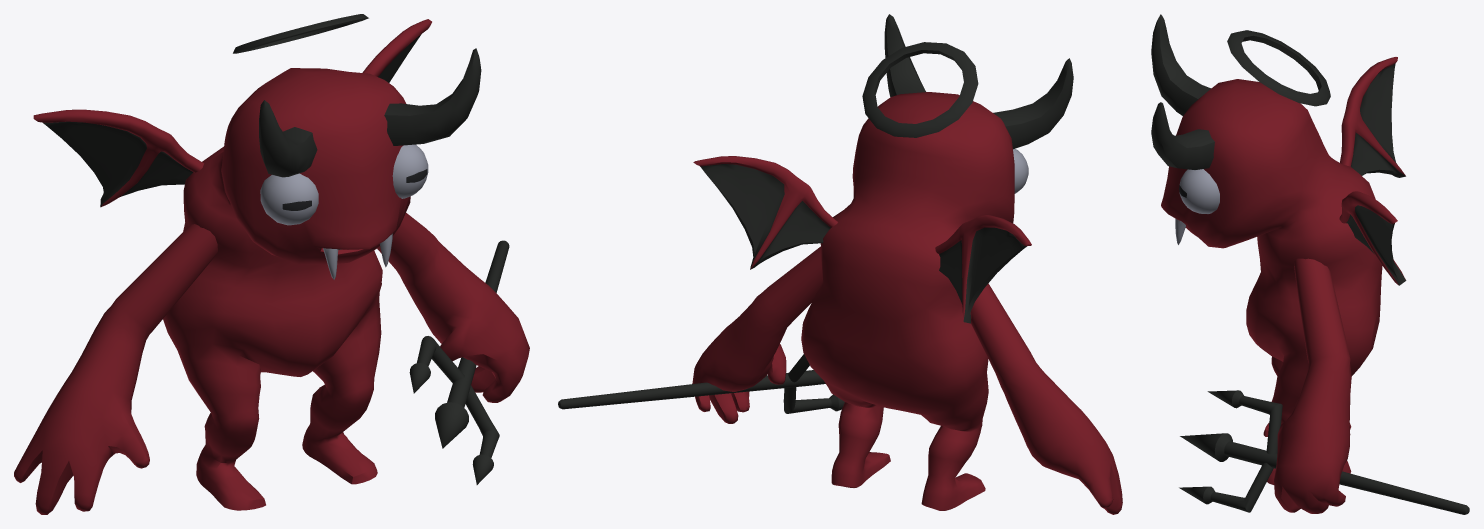
Rendered from Demon.obj.
The picture shows the model from 3 angles, left to right: view 1: azimuth 30°, elevation 25°; view 2: azimuth 150°, elevation 25°; view 3: azimuth 270°, elevation 25°; orthographic projection. The views are drawn at different scales.
Parts seen in each view (by area): view 1: Demon_Cube.098, Trident_Cylinder.005; view 2: Demon_Cube.098, Trident_Cylinder.005; view 3: Demon_Cube.098, Trident_Cylinder.005.
Boxes of the visible parts, x1,y1,x2,y2 form: Demon_Cube.098: [14, 14, 529, 514]; Trident_Cylinder.005: [409, 240, 509, 484]; Demon_Cube.098: [692, 14, 1122, 514]; Trident_Cylinder.005: [558, 354, 844, 413]; Demon_Cube.098: [1151, 14, 1406, 513]; Trident_Cylinder.005: [1179, 390, 1469, 514].
Bounding box in the file's own units: 3.6 × 2.94 × 2.04.
